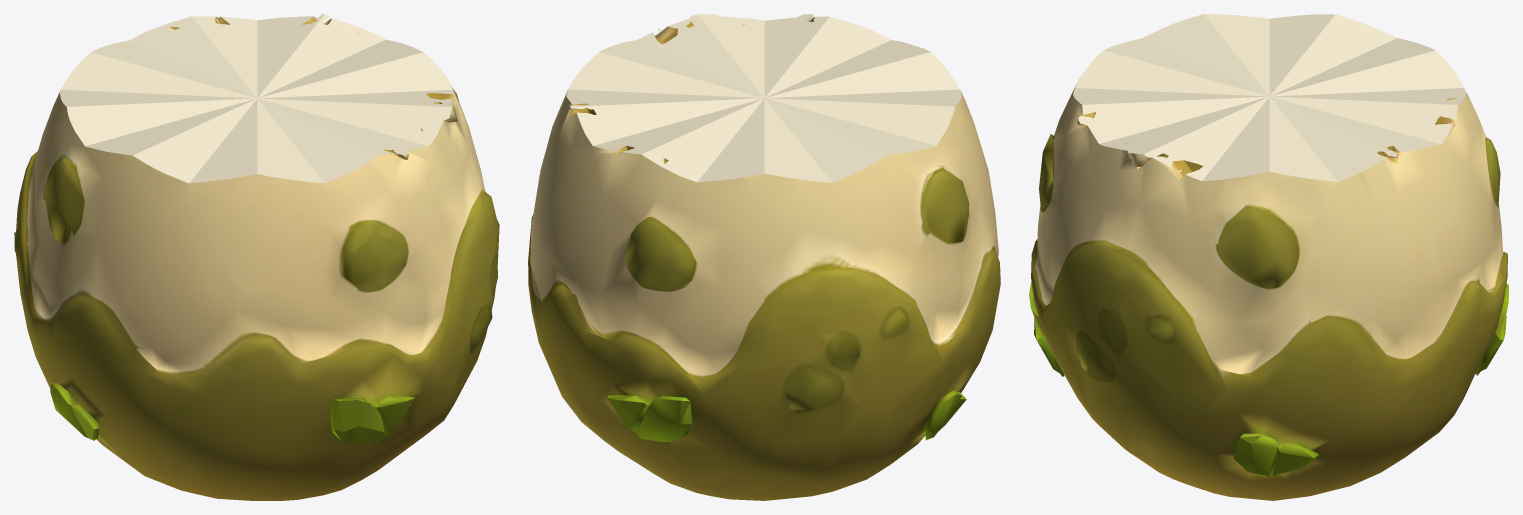
Rendered from egg_bottom.fbx.
3 renders of one model, left to right at view 1: azimuth 30°, elevation 25°; view 2: azimuth 150°, elevation 25°; view 3: azimuth 270°, elevation 25°, orthographic.
Visible parts, largest first — view 1: EggBottom; view 2: EggBottom; view 3: EggBottom.
Boxes of the visible parts, x1,y1,x2,y2 form: EggBottom: (14, 14, 499, 500); EggBottom: (528, 14, 1000, 500); EggBottom: (1029, 14, 1508, 500).
Size of the model in its own units: 0.1006 by 0.0889 by 0.1019.
